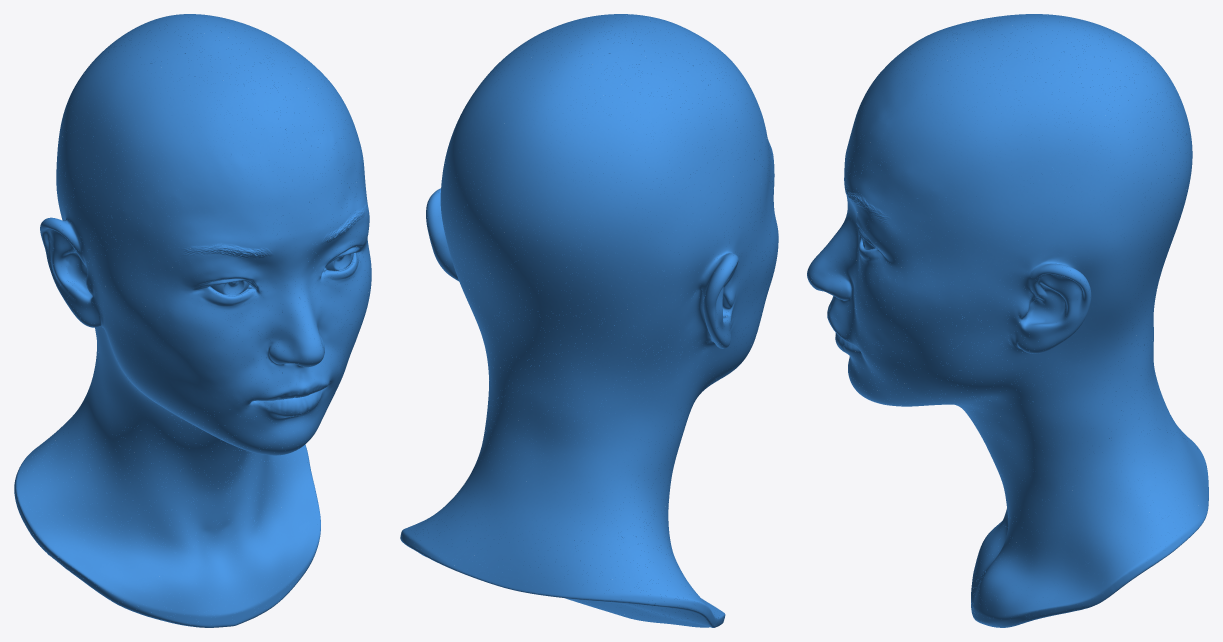
The model's file is 石膏头像_女中青年_05_opt.glb.
The picture shows the model from 3 angles, left to right: view 1: azimuth 30°, elevation 25°; view 2: azimuth 150°, elevation 25°; view 3: azimuth 270°, elevation 25°; orthographic projection. The views are drawn at different scales.
Parts seen in each view (by area): view 1: material_0_2, material_0_4, material_0, material_0_12, material_0_14, material_0_8, material_0_6, material_0_10, material_0_16, material_0_17, material_0_18, material_0_5 (+8 smaller); view 2: material_0, material_0_10, material_0_12, material_0_2, material_0_8, material_0_14, material_0_16, material_0_4, material_0_6, material_0_18, material_0_17, material_0_11 (+8 smaller); view 3: material_0_4, material_0_10, material_0, material_0_6, material_0_2, material_0_14, material_0_12, material_0_16, material_0_8, material_0_17, material_0_18, material_0_11 (+8 smaller).
Part boxes in pixels (x1,y1,x2,y2): material_0_2: (16, 18, 369, 576); material_0_4: (19, 26, 369, 607); material_0: (14, 14, 367, 577); material_0_12: (27, 16, 361, 626); material_0_14: (16, 14, 368, 627); material_0_8: (38, 19, 371, 622); material_0_6: (14, 16, 371, 612); material_0_10: (40, 14, 364, 627); material_0_16: (14, 14, 371, 627); material_0_17: (18, 15, 367, 624); material_0_18: (20, 15, 370, 623); material_0_5: (28, 29, 368, 606); material_0: (401, 19, 778, 610); material_0_10: (400, 14, 778, 627); material_0_12: (406, 14, 778, 627); material_0_2: (419, 49, 776, 626); material_0_8: (405, 14, 755, 627); material_0_14: (402, 14, 778, 627); material_0_16: (408, 14, 777, 627); material_0_4: (419, 14, 774, 627); material_0_6: (427, 18, 775, 627); material_0_18: (408, 15, 774, 625); material_0_17: (411, 15, 777, 626); material_0_11: (447, 38, 773, 626); material_0_4: (811, 15, 1208, 625); material_0_10: (830, 14, 1191, 617); material_0: (807, 14, 1208, 625); material_0_6: (827, 27, 1207, 603); material_0_2: (809, 26, 1205, 544); material_0_14: (812, 16, 1208, 627); material_0_12: (822, 15, 1208, 627); material_0_16: (810, 14, 1207, 627); material_0_8: (826, 14, 1189, 627); material_0_17: (814, 14, 1207, 623); material_0_18: (815, 18, 1207, 623); material_0_11: (841, 14, 1191, 599).
Bounding box in the file's own units: 0.1568 × 0.3 × 0.187.
